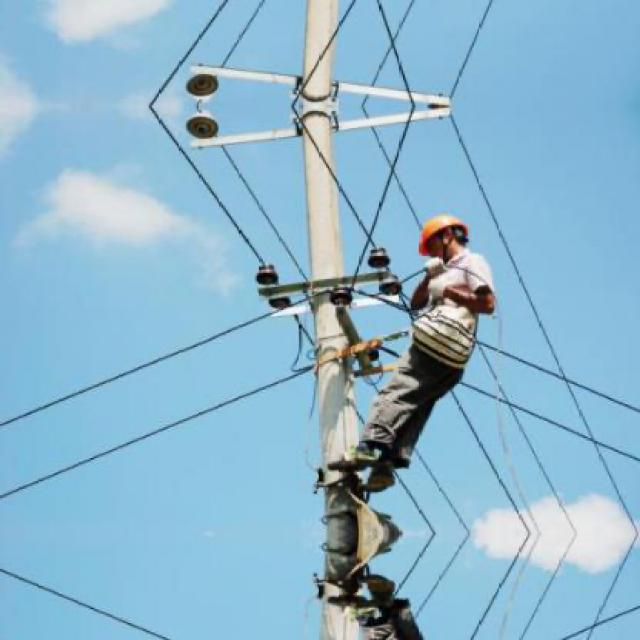helmet: (416, 213, 476, 265)
